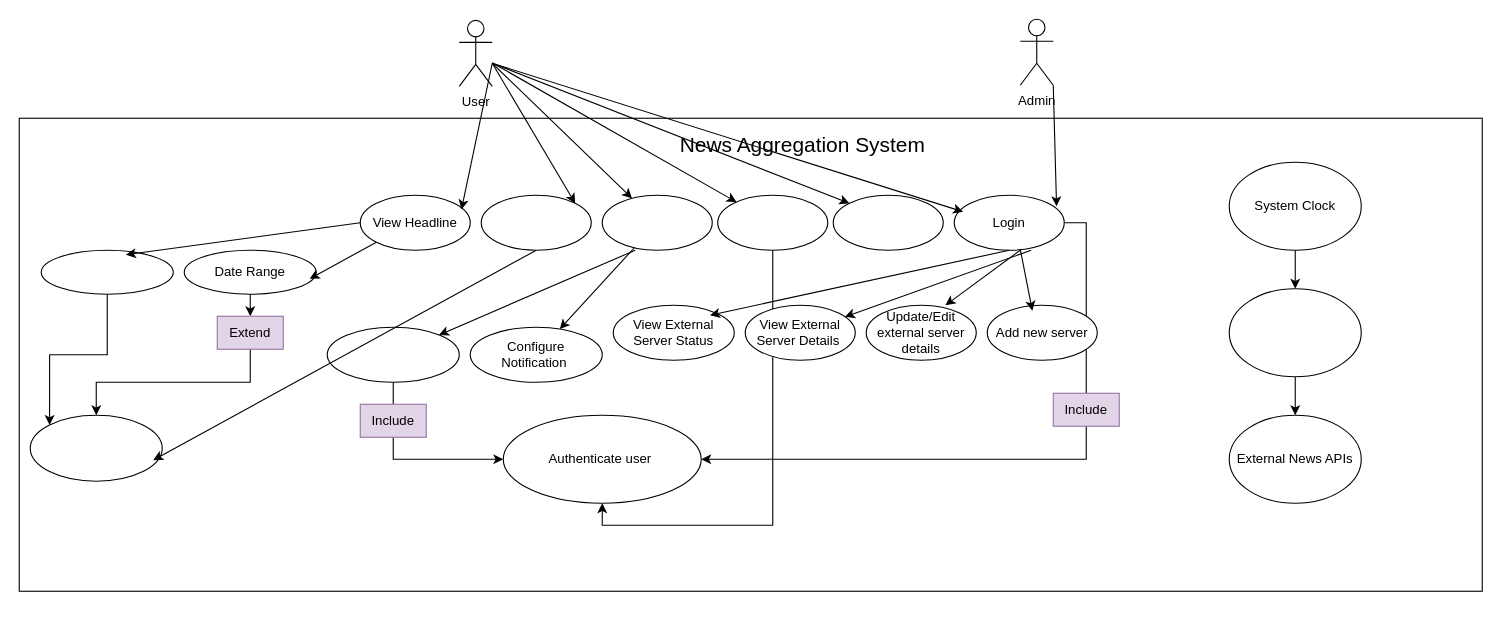
The diagram is 1502 pixels wide and 619 high, and some of its shapes have lost their labels. Here are the shapes that lost their labels. From the top down, the centre of each, then its label:
the point at 535,222: Search News
the point at 656,222: Notification Configuration
the point at 772,222: Sign Up
the point at 887,222: View Saved News
the point at 106,271: Today
the point at 1294,332: Fetch news from APIs
the point at 392,354: View Notification
the point at 95,447: Save Article
